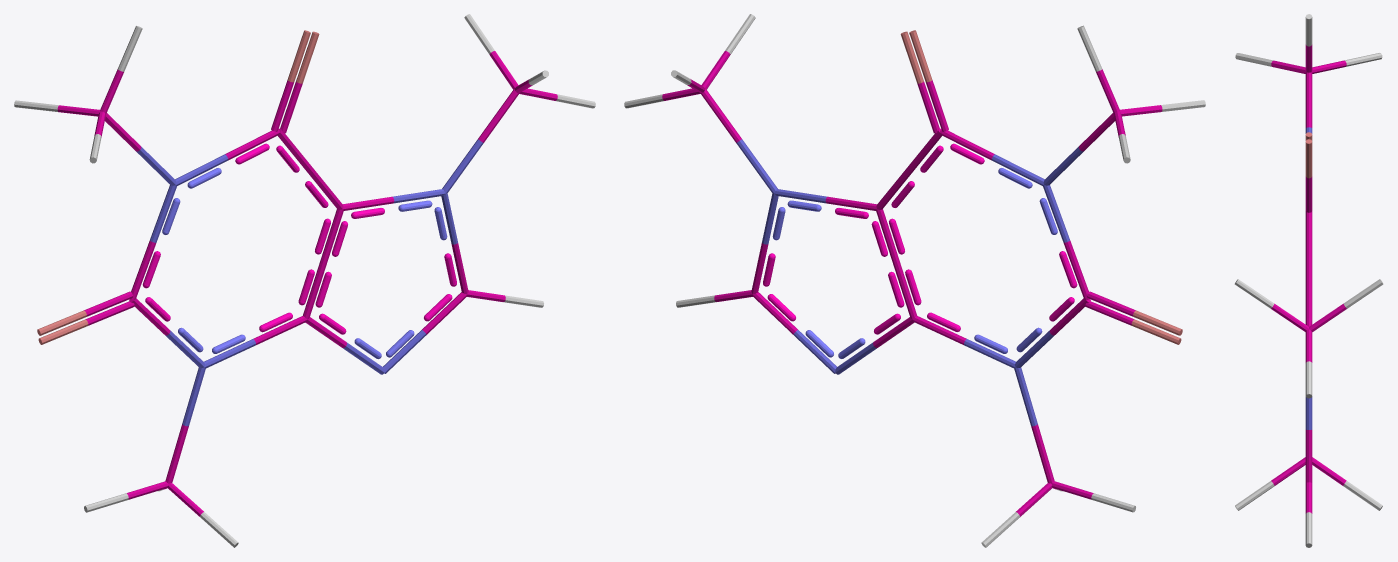
The model's file is caffeine__lines__default.glb.
3 views of the same model, side by side, from view 1: azimuth 30°, elevation 25°; view 2: azimuth 150°, elevation 25°; view 3: azimuth 270°, elevation 25° (orthographic). The views are drawn at different scales.
Visible parts, largest first — view 1: Renderer Node; view 2: Renderer Node; view 3: Renderer Node.
Boxes of the visible parts, <box> form: Renderer Node: <box>14,14,595,547</box>; Renderer Node: <box>624,14,1205,547</box>; Renderer Node: <box>1234,14,1383,547</box>.
Bounding box in the file's own units: 7.36 × 6.42 × 1.85.
